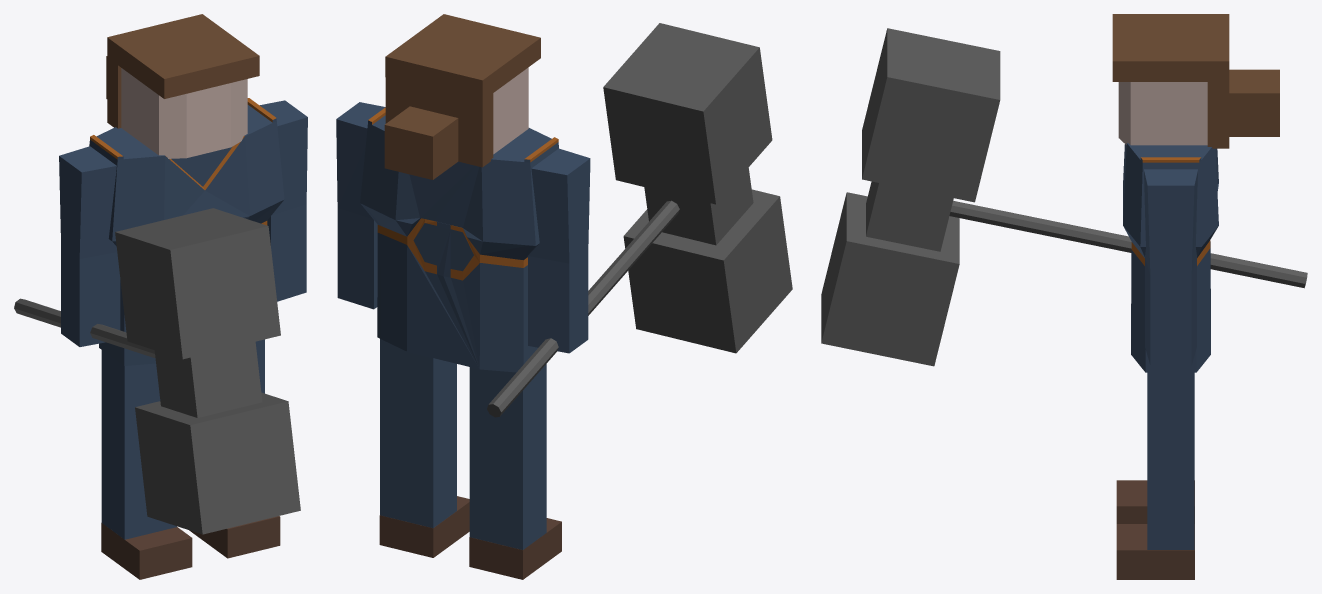
The model's file is jack_final.fbx.
3 renders of one model, left to right at view 1: azimuth 30°, elevation 25°; view 2: azimuth 150°, elevation 25°; view 3: azimuth 270°, elevation 25°, orthographic. The views are drawn at different scales.
Visible parts, largest first — view 1: polySurface48, polySurface25; view 2: polySurface48, polySurface25; view 3: polySurface48, polySurface25.
Boxes of the visible parts, x1,y1,x2,y2 form: polySurface48: (59,14,307,579); polySurface25: (14,208,300,534); polySurface48: (336,14,590,579); polySurface25: (487,23,792,417); polySurface48: (1112,14,1279,579); polySurface25: (821,28,1307,366).
Bounding box in the file's own units: 117 × 210 × 182.
